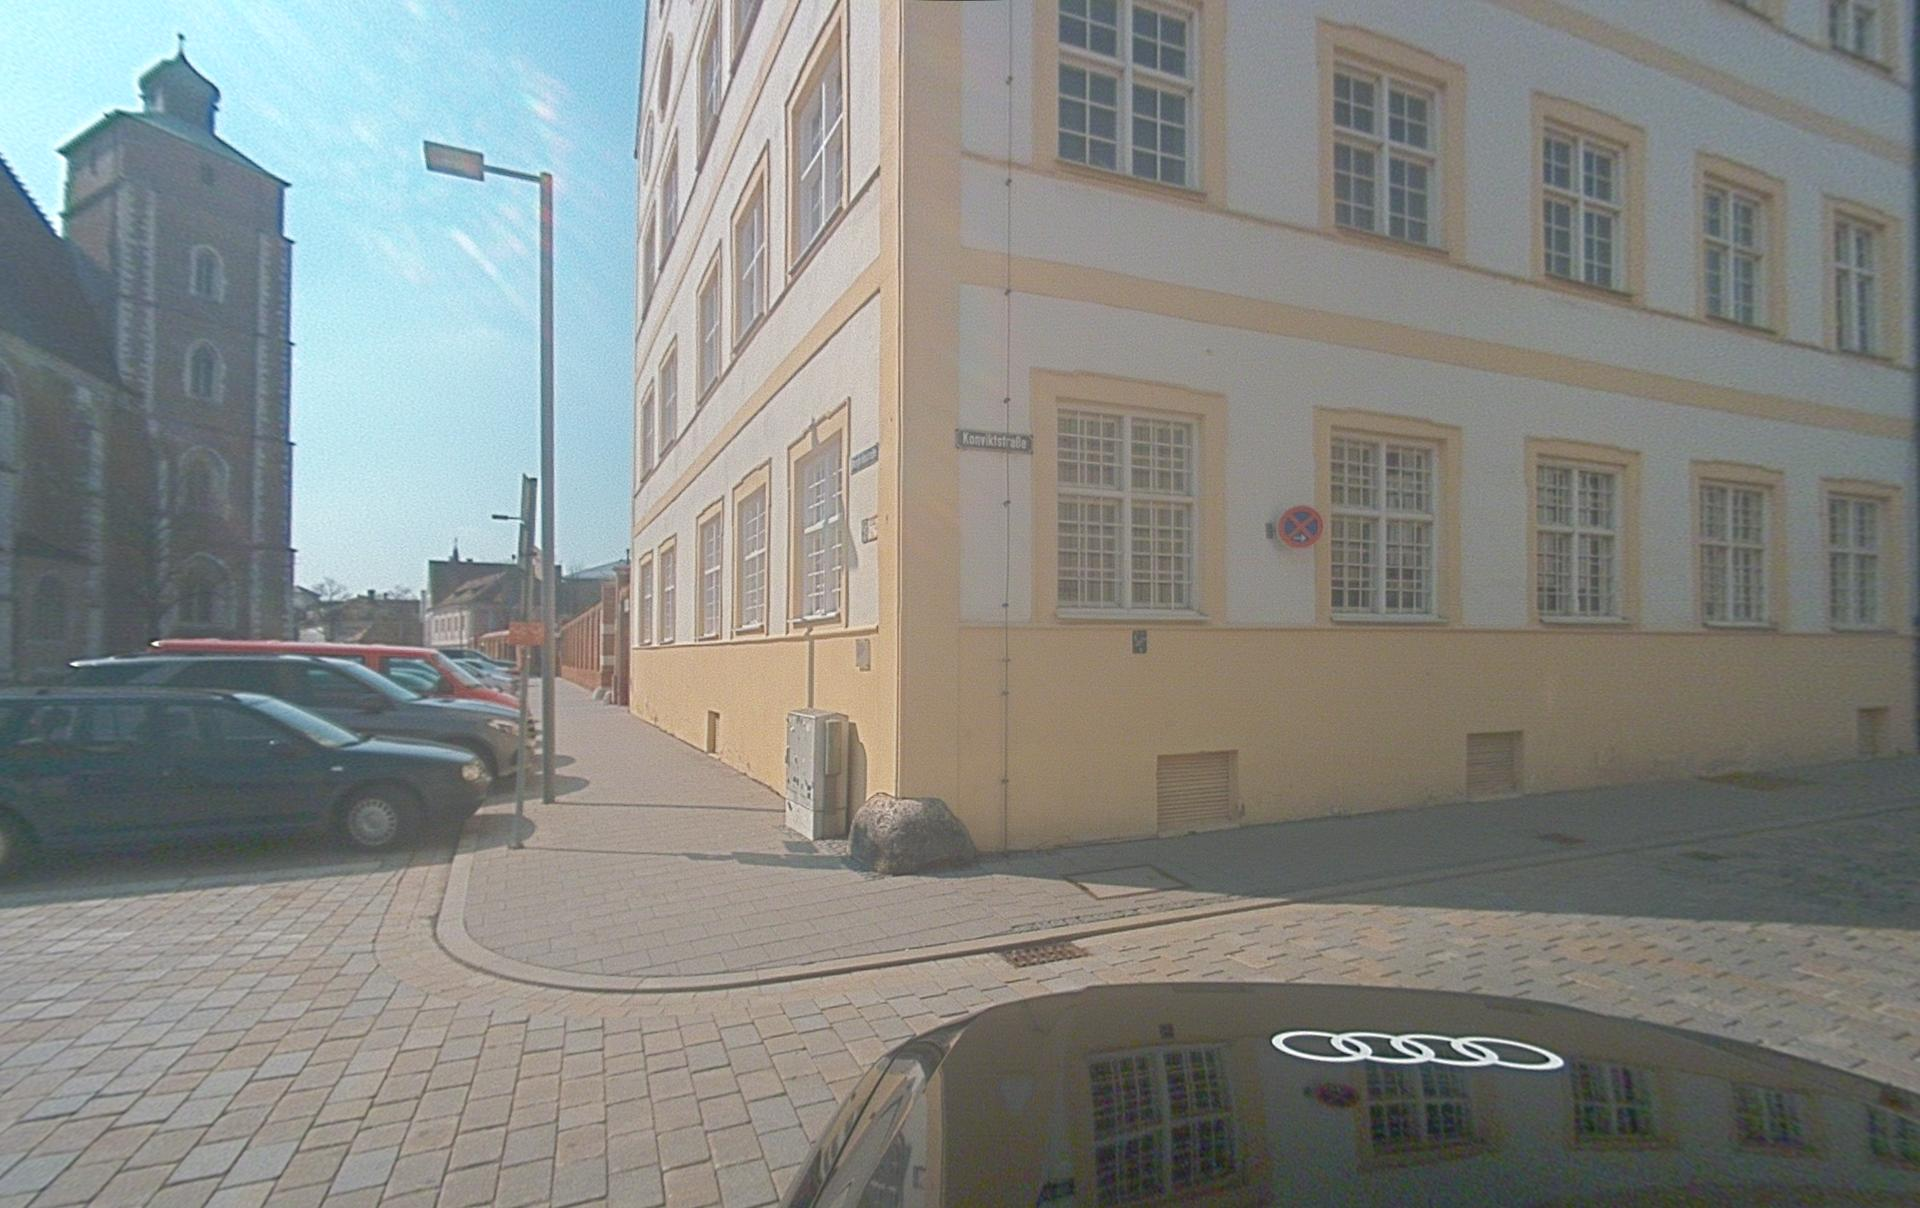car: (0, 685, 491, 880), (67, 640, 540, 784)
